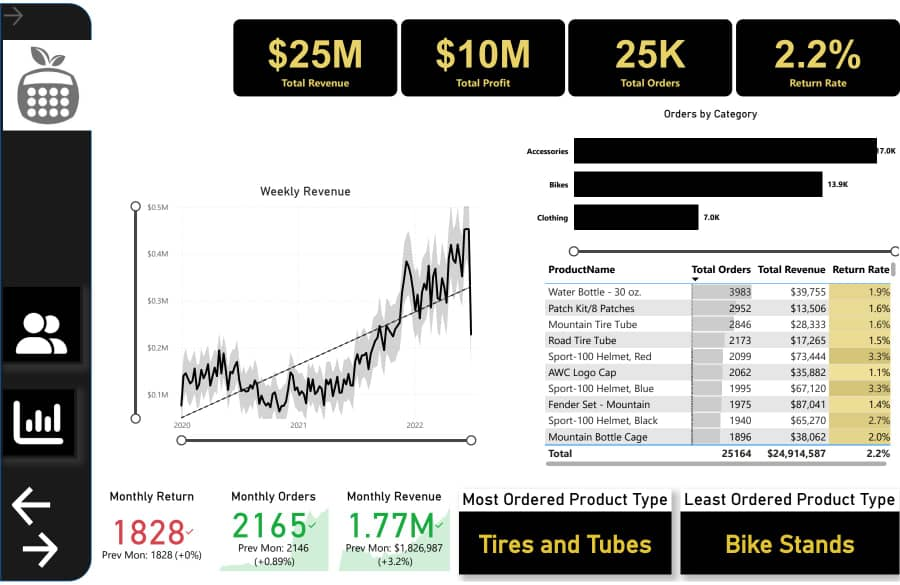

What the dashboard file says about the page in this screenshot:
{"tool":"powerbi","page":{"name":"Exec Board","canvas":[1400,900],"ordinal":2},"visuals":[{"type":"lineChart","title":"Weekly Revenue","fields":{"Category":["Calendar Lookup.Start of Week.Variation.Date Hierarchy.Year","Calendar Lookup.Start of Week.Variation.Date Hierarchy.Quarter","Calendar Lookup.Start of Week.Variation.Date Hierarchy.Month","Calendar Lookup.Start of Week.Variation.Date Hierarchy.Day"],"Y":["Calculated Measure.Total Revenue"]},"box":[200.3,281.2,550.8,410.2],"z":0},{"type":"card","fields":{"Values":["Calculated Measure.Total Revenue"]},"box":[363,25.2,255.3,119.7],"z":1000},{"type":"card","fields":{"Values":["Calculated Measure.Total Profit"]},"box":[623.6,25.2,255.3,119.7],"z":2000},{"type":"card","fields":{"Values":["Calculated Measure.Total Orders"]},"box":[884.2,25.2,255.3,119.7],"z":3000},{"type":"card","fields":{"Values":["Calculated Measure.Return Rate"]},"box":[1144.8,25.2,255.3,119.7],"z":4000},{"type":"clusteredBarChart","title":"Orders by Category","fields":{"Category":["Product Categories Lookup.CategoryName"],"Y":["Calculated Measure.Total Orders"]},"box":[812.7,161.8,585.4,234.9],"z":5000},{"type":"tableEx","fields":{"Values":["Product Lookup.ProductName","Calculated Measure.Total Orders","Calculated Measure.Total Revenue","Calculated Measure.Return Rate"]},"box":[841.5,396.7,556.5,329.3],"z":6000},{"type":"card","title":"Most Ordered Product Type","fields":{"Values":["Min(Product Subcategories Lookup.SubcategoryName)"]},"box":[713.9,756.4,330.5,132.6],"z":7000},{"type":"card","title":"Least Ordered Product Type","fields":{"Values":["Min(Product Subcategories Lookup.SubcategoryName)"]},"box":[1059.3,756.4,339.8,132.6],"z":8000},{"type":"kpi","title":"Monthly Return","fields":{"TrendLine":["Calendar Lookup.Date Hierachy.Start of Year"],"Indicator":["Calculated Measure.Quantity Returned"],"Goal":["Calculated Measure.Previous Month Returns"]},"box":[142.5,756.4,186.7,132.6],"z":9000},{"type":"kpi","title":"Monthly Revenue","fields":{"Indicator":["Calculated Measure.Previous Month Revenue"],"Goal":["Calculated Measure.Total Revenue"],"TrendLine":["Calendar Lookup.Start of Month"]},"box":[521.5,756.4,183,132.6],"z":10000},{"type":"kpi","title":"Monthly Orders","fields":{"Indicator":["Calculated Measure.Previous Month Orders"],"Goal":["Calculated Measure.Total Orders"],"TrendLine":["Calendar Lookup.Start of Month"]},"box":[334.8,756.4,181.1,132.6],"z":11000},{"type":"shape","box":[0,0,142.5,899.3],"z":12000},{"type":"image","box":[0,436.9,128.8,125.1],"z":13000},{"type":"image","box":[0,595.6,119.5,112],"z":14000},{"type":"image","box":[0,50.1,150.2,156],"z":15000},{"type":"actionButton","box":[0,0,100,40],"z":16000},{"type":"actionButton","box":[28,817.8,100.8,65.4],"z":17000},{"type":"actionButton","box":[11.2,746.9,78.4,71],"z":18000}]}

Visuals, with their boxes on the page's 1400x900 design canvas (x1, y1, x2, y2). These are canvas units, not pixel positions in the 900x585 screenshot, which may show the page scaled, cropped or inside an application window:
"Weekly Revenue" lineChart: [200, 281, 751, 691]
card - Calculated Measure.Total Revenue: [363, 25, 618, 145]
card - Calculated Measure.Total Profit: [624, 25, 879, 145]
card - Calculated Measure.Total Orders: [884, 25, 1140, 145]
card - Calculated Measure.Return Rate: [1145, 25, 1400, 145]
"Orders by Category" clusteredBarChart: [813, 162, 1398, 397]
tableEx - Product Lookup.ProductName x Calculated Measure.Total Orders: [842, 397, 1398, 726]
"Most Ordered Product Type" card: [714, 756, 1044, 889]
"Least Ordered Product Type" card: [1059, 756, 1399, 889]
"Monthly Return" kpi: [142, 756, 329, 889]
"Monthly Revenue" kpi: [522, 756, 704, 889]
"Monthly Orders" kpi: [335, 756, 516, 889]
shape: [0, 0, 142, 899]
image: [0, 437, 129, 562]
image: [0, 596, 120, 708]
image: [0, 50, 150, 206]
actionButton: [0, 0, 100, 40]
actionButton: [28, 818, 129, 883]
actionButton: [11, 747, 90, 818]
